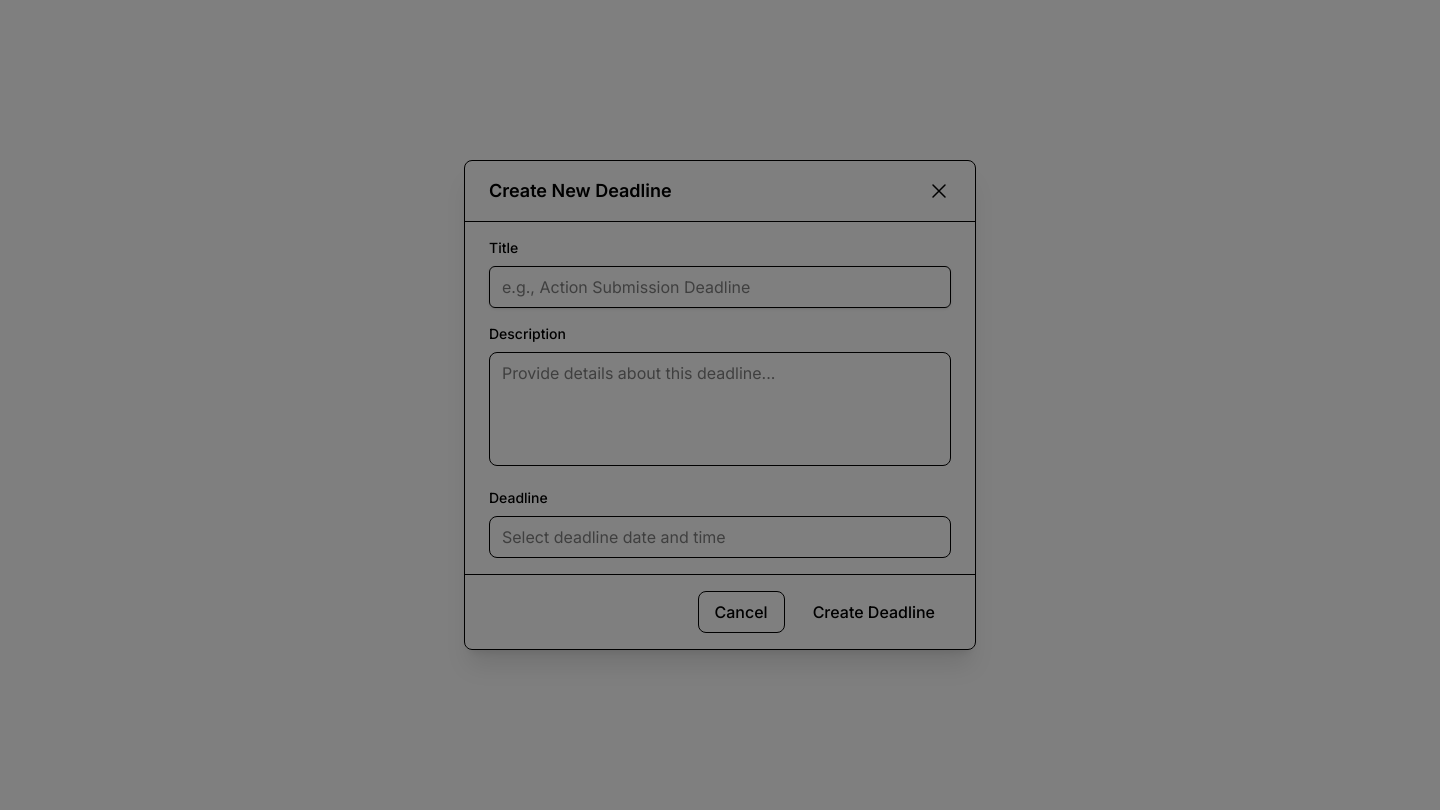
CreateDeadlineModal › Form validation › should show error when title is empty
Click the button "Create Deadline" at (874, 612), box 797,592 -> 951,632
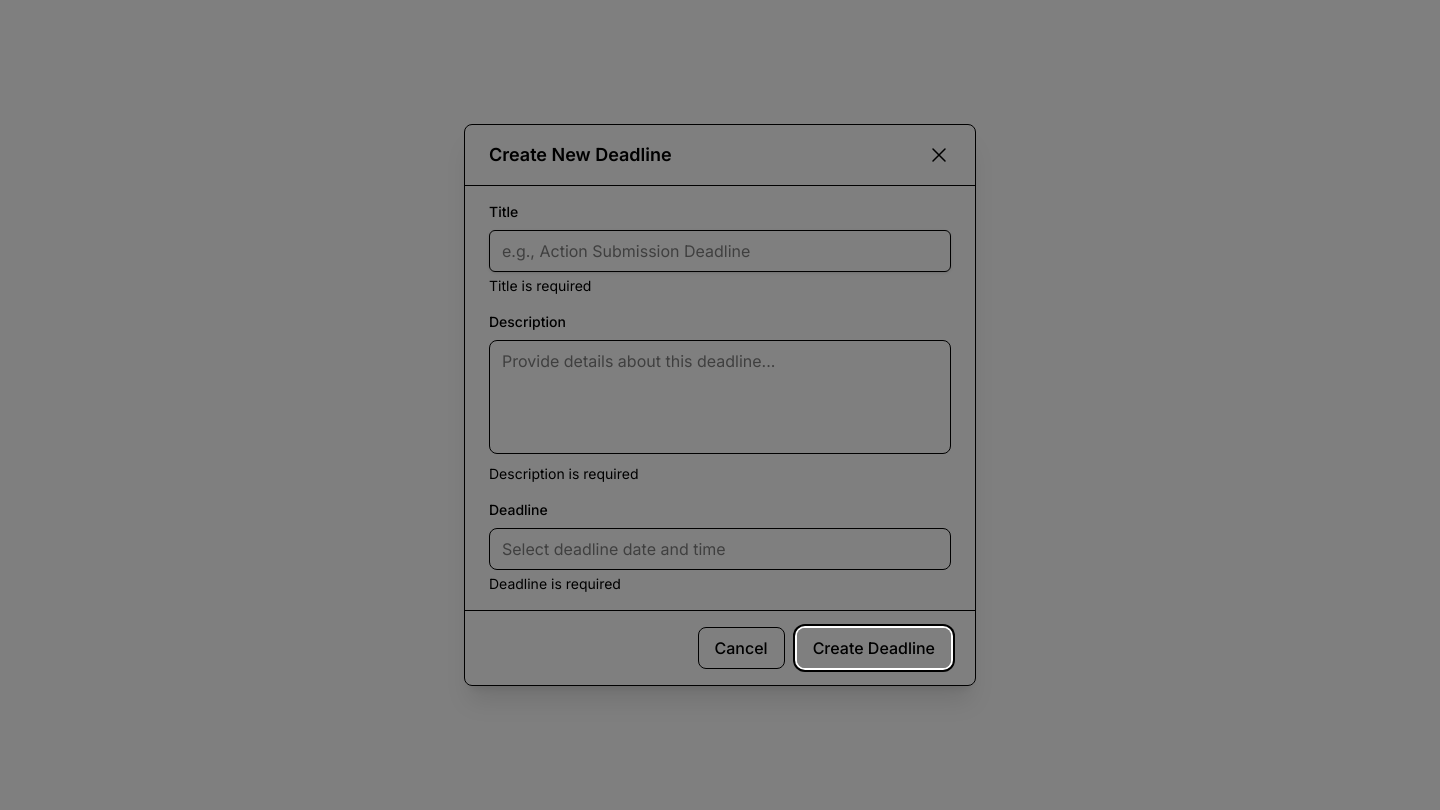
Result: the text "Title is required" is shown at 489,277 -> 591,294
